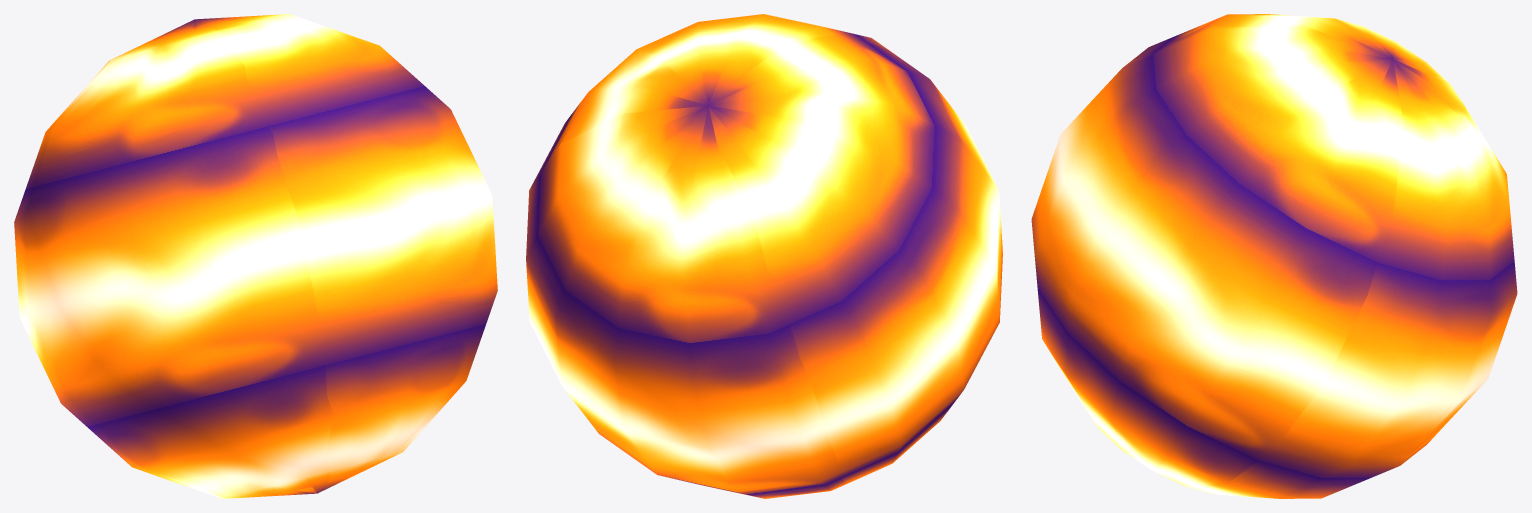
The model's file is track6Building4.glb.
3 views of the same model, side by side, from view 1: azimuth 30°, elevation 25°; view 2: azimuth 150°, elevation 25°; view 3: azimuth 270°, elevation 25° (orthographic).
Parts seen in each view (by area): view 1: planet1; view 2: planet1; view 3: planet1.
Part boxes in pixels (x1,y1,x2,y2): planet1: (14,14,497,498); planet1: (526,14,1002,498); planet1: (1031,14,1517,498).
Size of the model in its own units: 9.04 by 9.07 by 9.02.
1 material, 1 textured.
